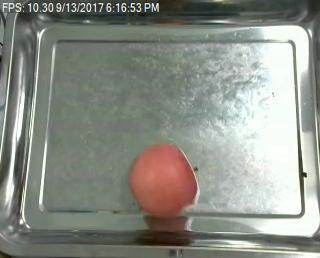apple: (127, 144, 201, 221)
